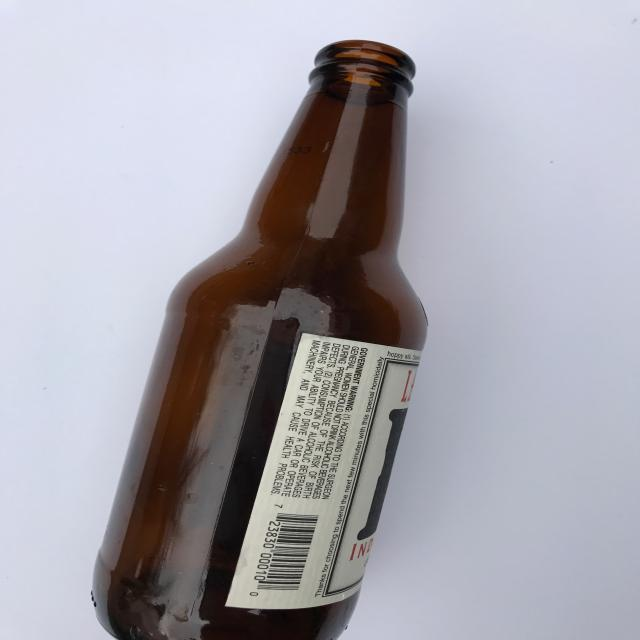glass: (91, 39, 432, 640)
